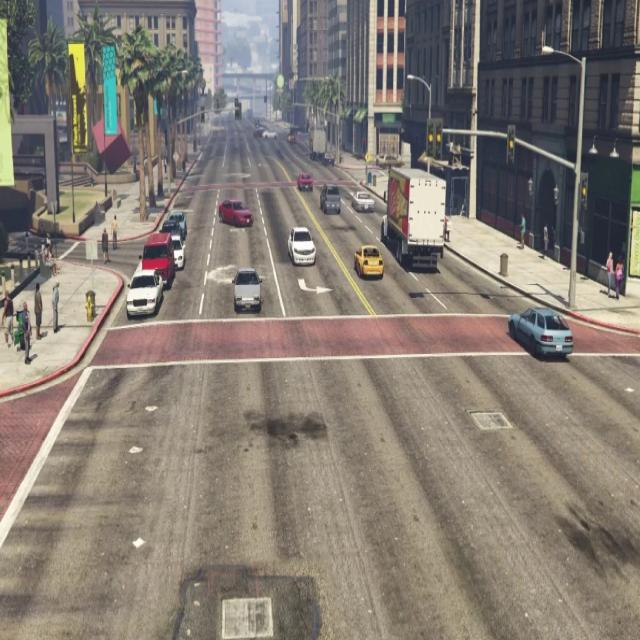Yellow-Signal: (420, 108, 452, 171), (498, 116, 526, 175), (573, 167, 597, 217)
